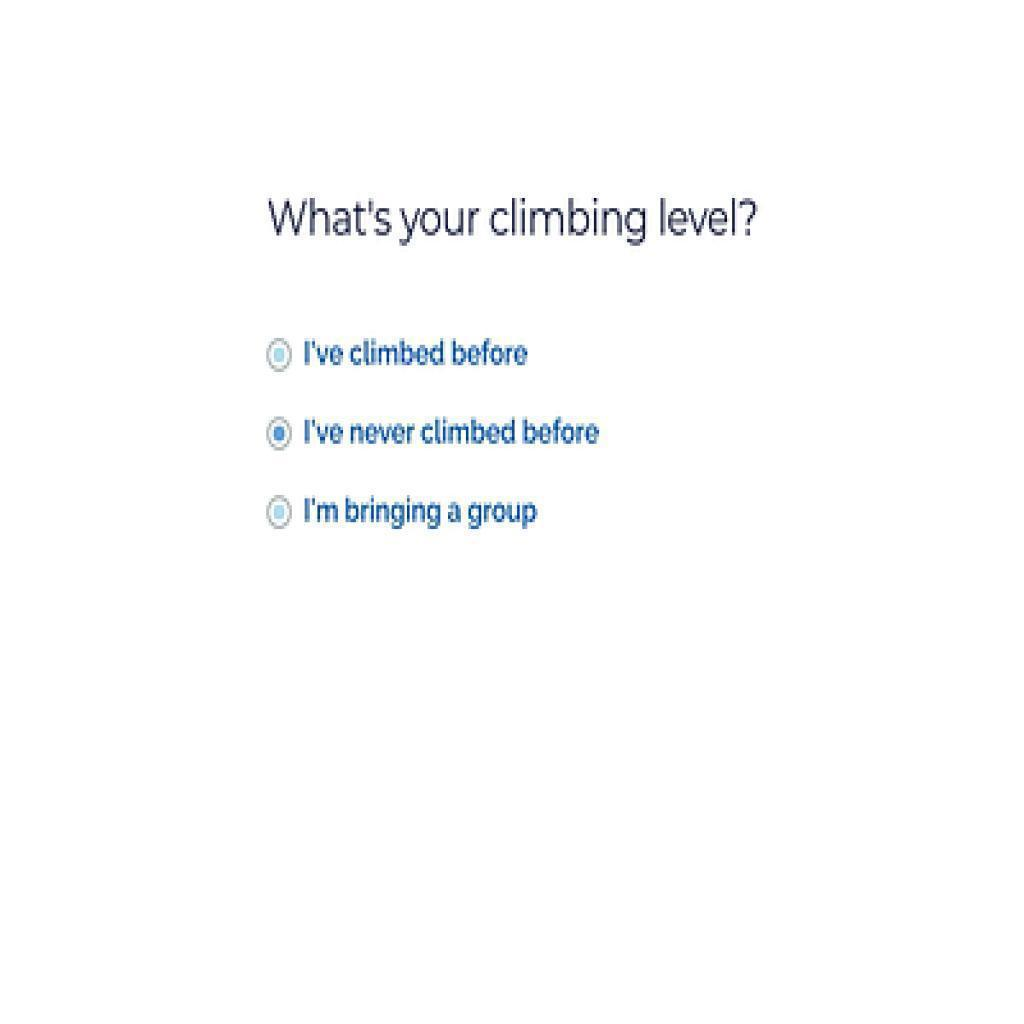label: (260, 192, 760, 252), (298, 414, 605, 448), (298, 493, 541, 533), (299, 335, 531, 371)
radio: (263, 492, 293, 532), (263, 337, 294, 375), (264, 415, 294, 454)
